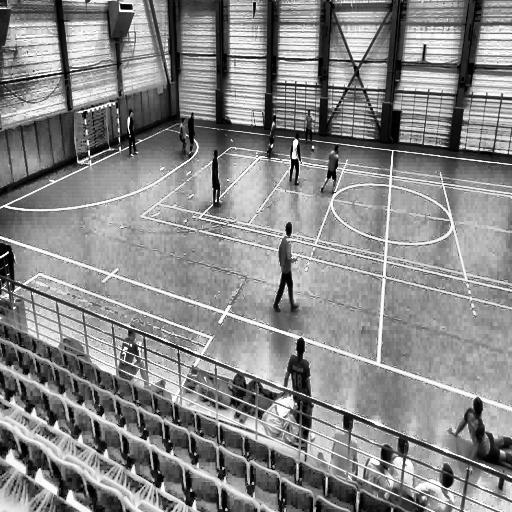ball: (310, 143, 316, 154)
player: (274, 221, 299, 314), (320, 143, 339, 195), (289, 131, 302, 187), (211, 147, 222, 209), (127, 108, 137, 158), (266, 113, 277, 158), (304, 108, 315, 151), (188, 110, 197, 160), (179, 117, 189, 158)
